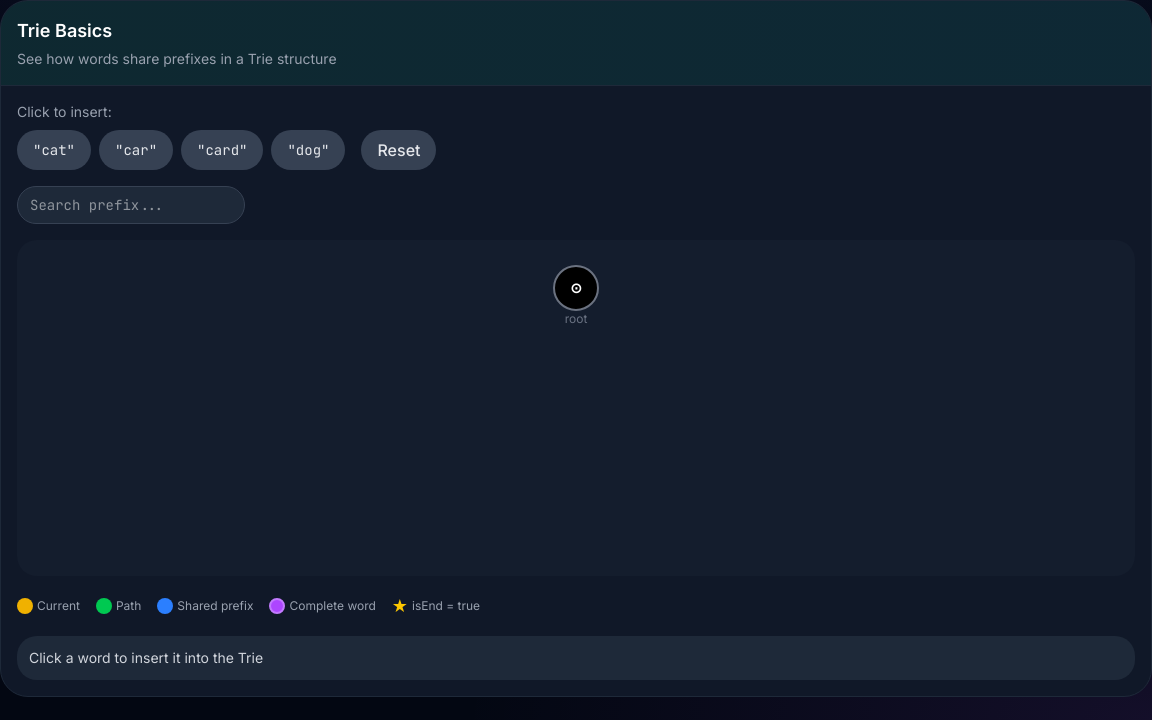
Trie Visualizers › TrieBasicsVisualizer › prevents inserting the same word twice
Click the button "\"cat\"" at (54, 150), box [17,130,91,170]
Wait 3000 ms
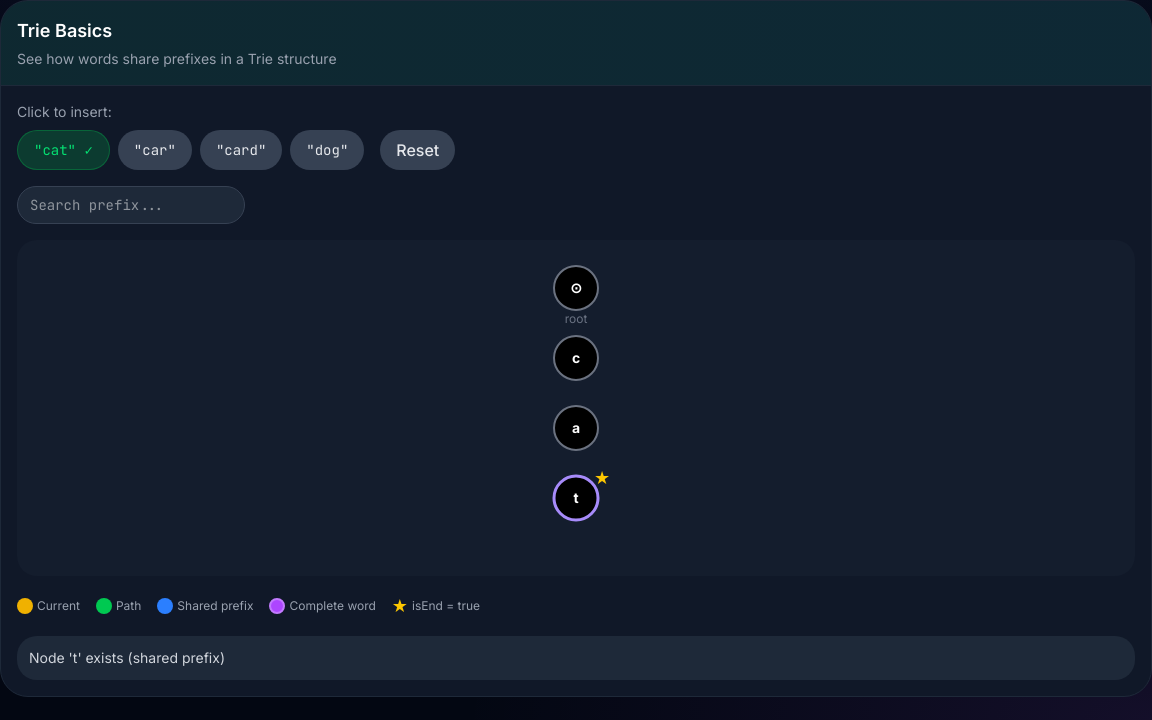
Now the button "\"cat\" ✓" is disabled, box [17,130,110,170]
Now the button "\"cat\" ✓" is shown, box [17,130,110,170]
